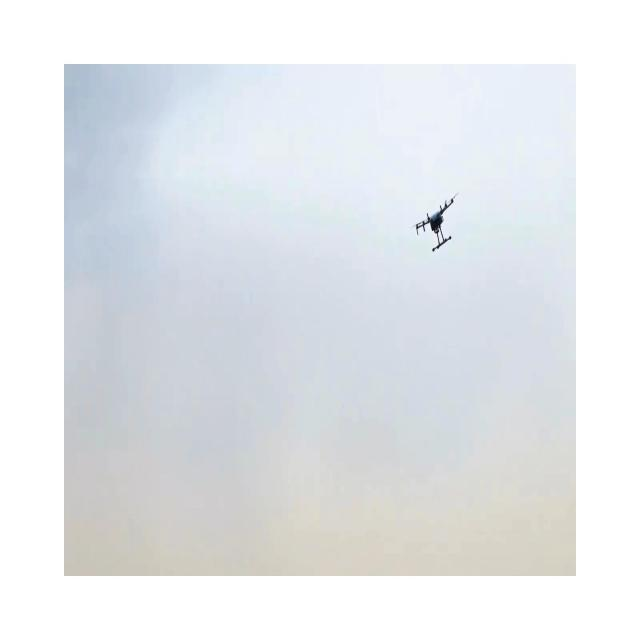drone: (412, 191, 458, 252)
